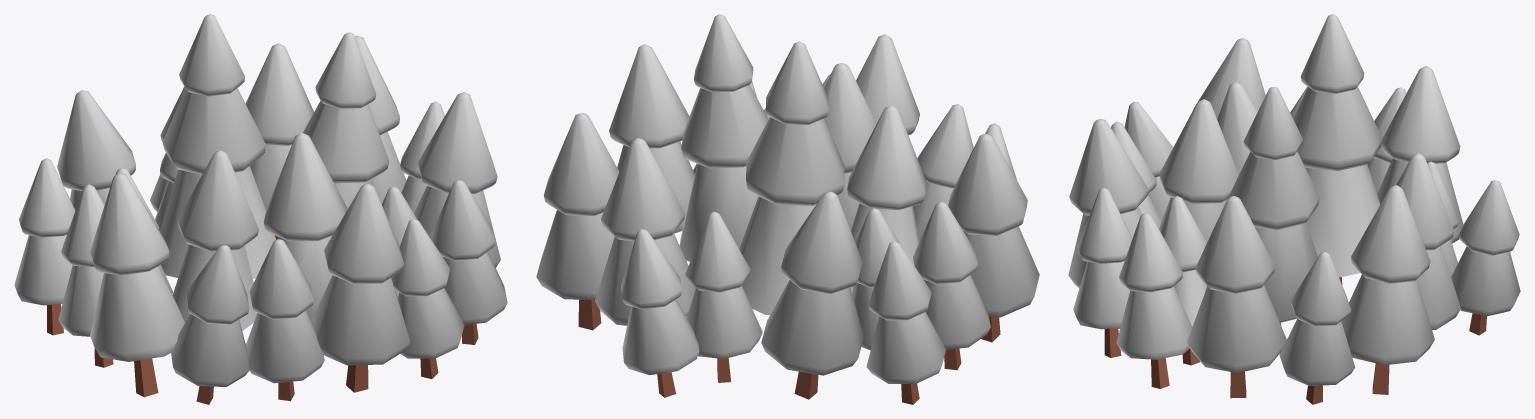
File: forest.fbx
3 renders of one model, left to right at view 1: azimuth 30°, elevation 25°; view 2: azimuth 150°, elevation 25°; view 3: azimuth 270°, elevation 25°, orthographic. The views are drawn at different scales.
Parts seen in each view (by area): view 1: forest; view 2: forest; view 3: forest.
Part boxes in pixels (x1=…): forest: x1=14, y1=14, x2=507, y2=404; forest: x1=536, y1=14, x2=1039, y2=404; forest: x1=1068, y1=14, x2=1520, y2=404.
Size of the model in its own units: 193 by 136 by 190.
